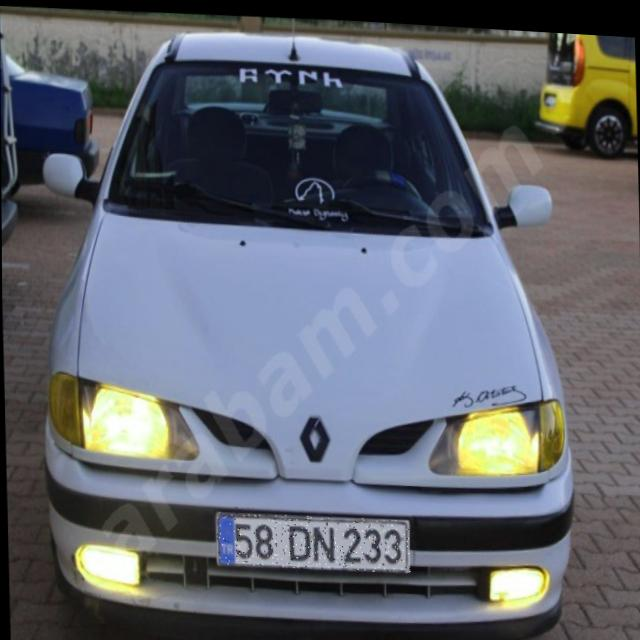license_plate: (215, 505, 409, 570)
